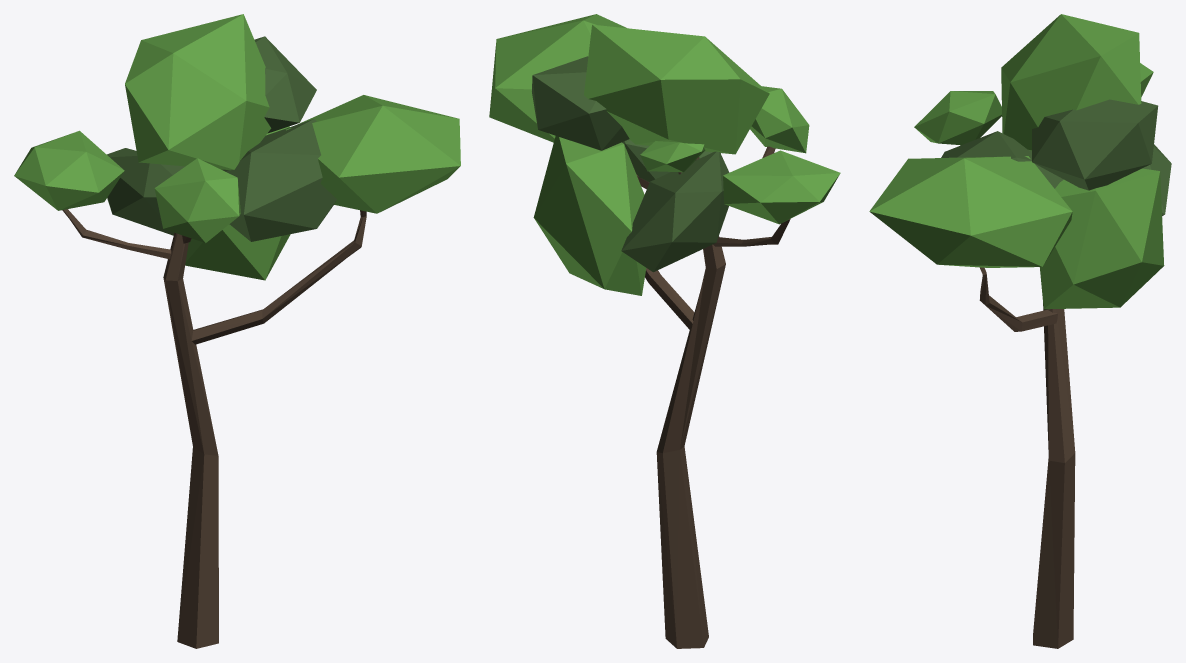
Rendered from tree1.fbx.
The picture shows the model from 3 angles, left to right: view 1: azimuth 30°, elevation 25°; view 2: azimuth 150°, elevation 25°; view 3: azimuth 270°, elevation 25°; orthographic projection. The views are drawn at different scales.
Parts seen in each view (by area): view 1: tree1; view 2: tree1; view 3: tree1.
Part boxes in pixels (x1,y1,x2,y2): tree1: (14,14,460,648); tree1: (489,14,840,648); tree1: (869,14,1171,648).
Bounding box in the file's own units: 4.01 × 6 × 2.66.
Materials: 1 (1 with a texture image).
